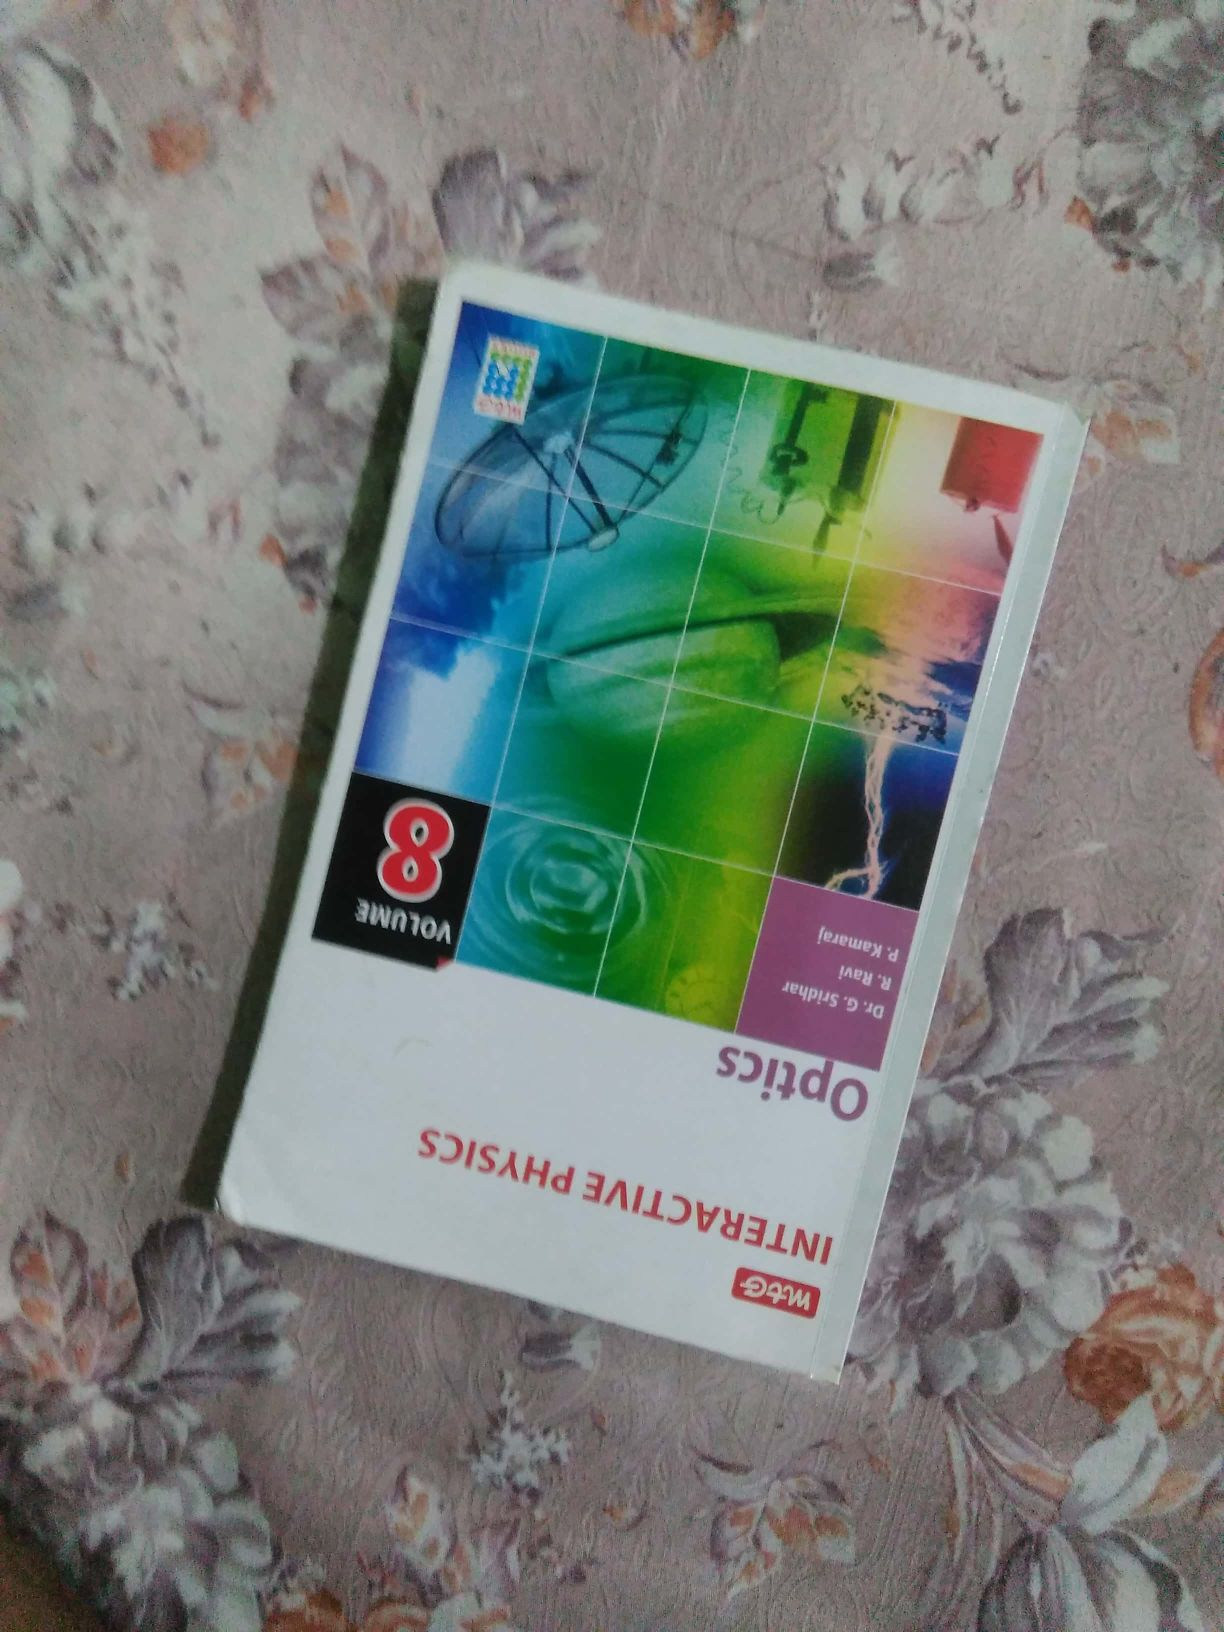optics: (213, 317, 1070, 1405)
